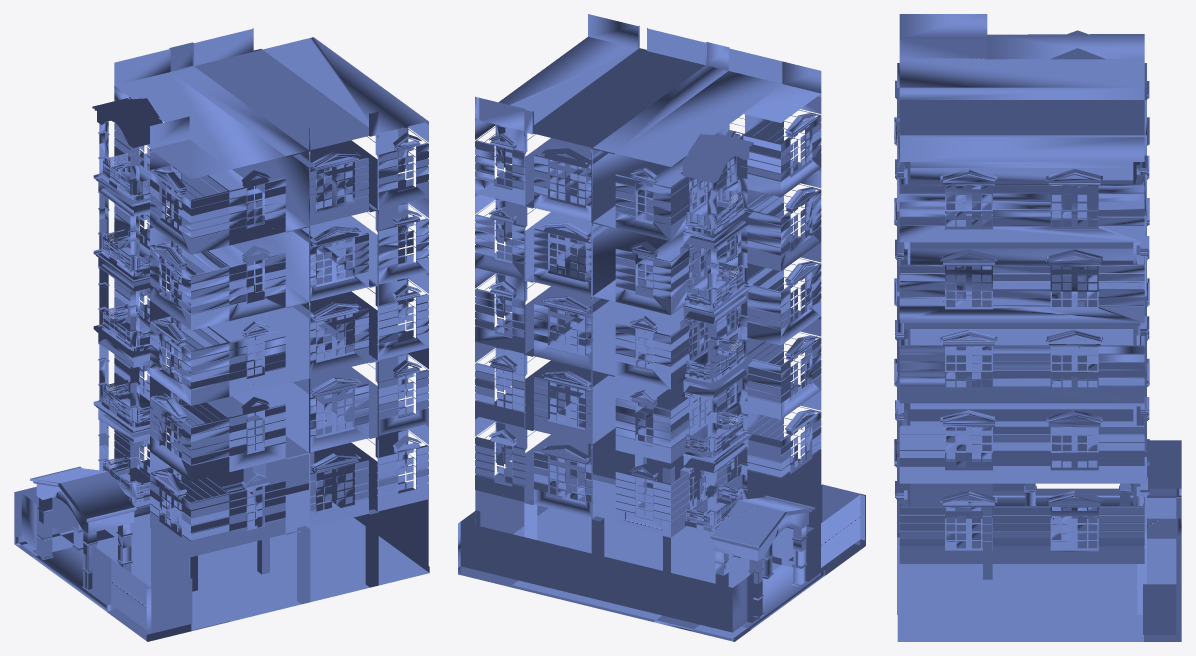
Rendered from Building_gltf.glb.
3 views of the same model, side by side, from view 1: azimuth 30°, elevation 25°; view 2: azimuth 150°, elevation 25°; view 3: azimuth 270°, elevation 25° (orthographic). The views are drawn at different scales.
Visible parts, largest first — view 1: Cube.013; view 2: Cube.013; view 3: Cube.013.
Boxes of the visible parts, left/top/right/bottom form: Cube.013: left=14, top=28, right=429, bottom=641; Cube.013: left=458, top=14, right=865, bottom=641; Cube.013: left=894, top=14, right=1181, bottom=641.
Size of the model in its own units: 729 by 1136 by 586.
